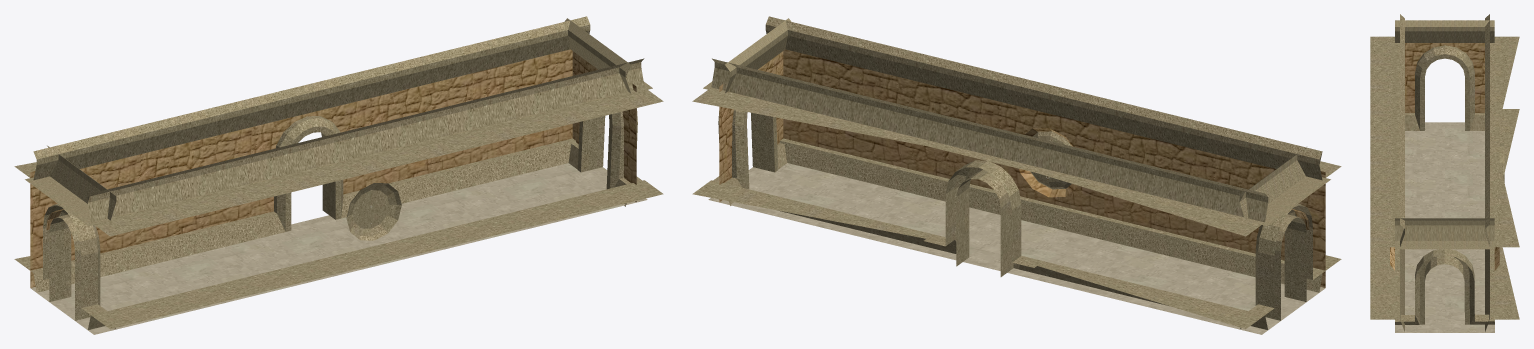
Rendered from LibraryCorridor-transformed.glb.
3 views of the same model, side by side, from view 1: azimuth 30°, elevation 25°; view 2: azimuth 150°, elevation 25°; view 3: azimuth 270°, elevation 25° (orthographic). The views are drawn at different scales.
Visible parts, largest first — view 1: object1.008, door, col, object1.005; view 2: object1.008, door, col, object1.005; view 3: object1.008, col, object1.005, door.
Part boxes in pixels (box(x1,y1,x2,y2)): object1.008: box(14, 16, 663, 328); door: box(30, 49, 636, 287); col: box(30, 163, 647, 334); object1.005: box(88, 116, 663, 329); object1.008: box(692, 16, 1341, 329); door: box(719, 49, 1325, 287); col: box(708, 163, 1325, 334); object1.005: box(779, 131, 1341, 292); object1.008: box(1370, 14, 1519, 331); col: box(1395, 122, 1494, 332); object1.005: box(1370, 143, 1504, 331); door: box(1390, 43, 1499, 270).
Size of the model in its own units: 5.1 by 1.22 by 1.5.
Materials: 7 (6 with a texture image).
